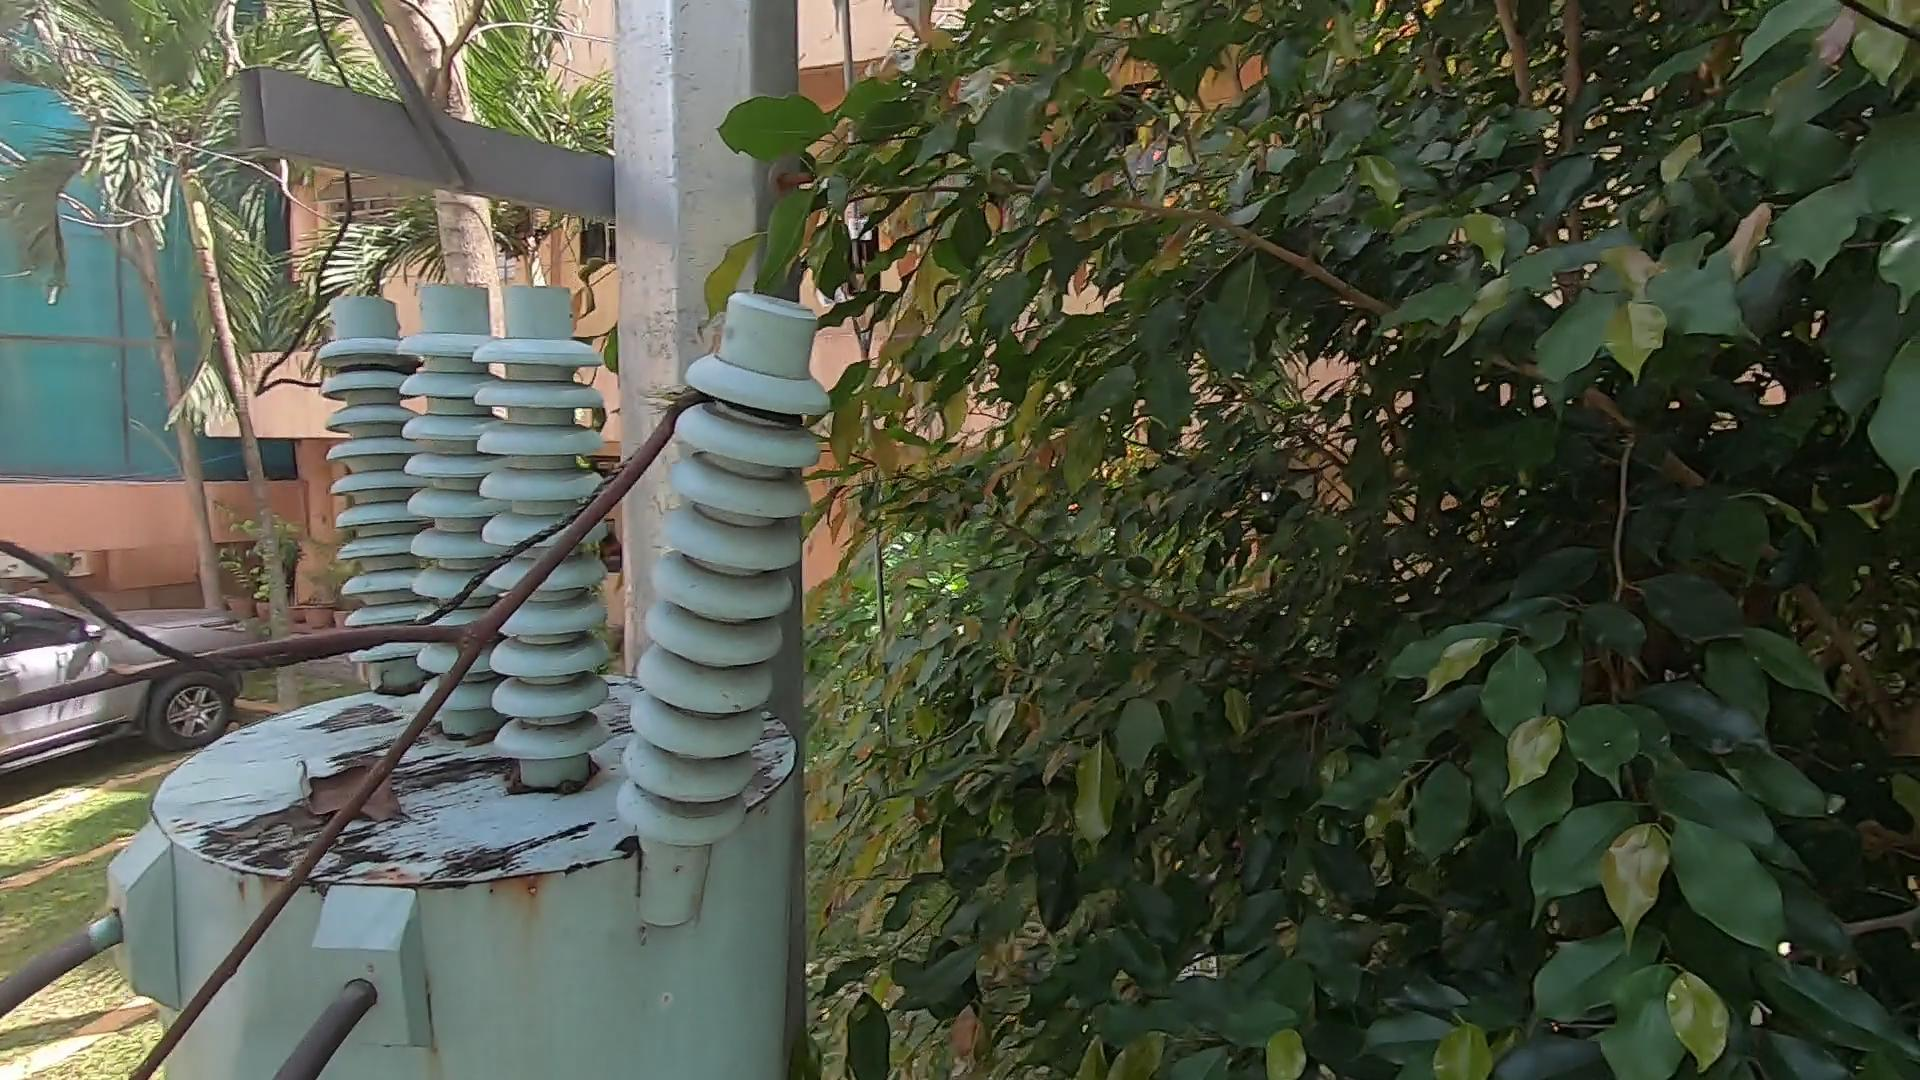leaf: (285, 741, 413, 829)
tree branch: (8, 373, 793, 1080)
